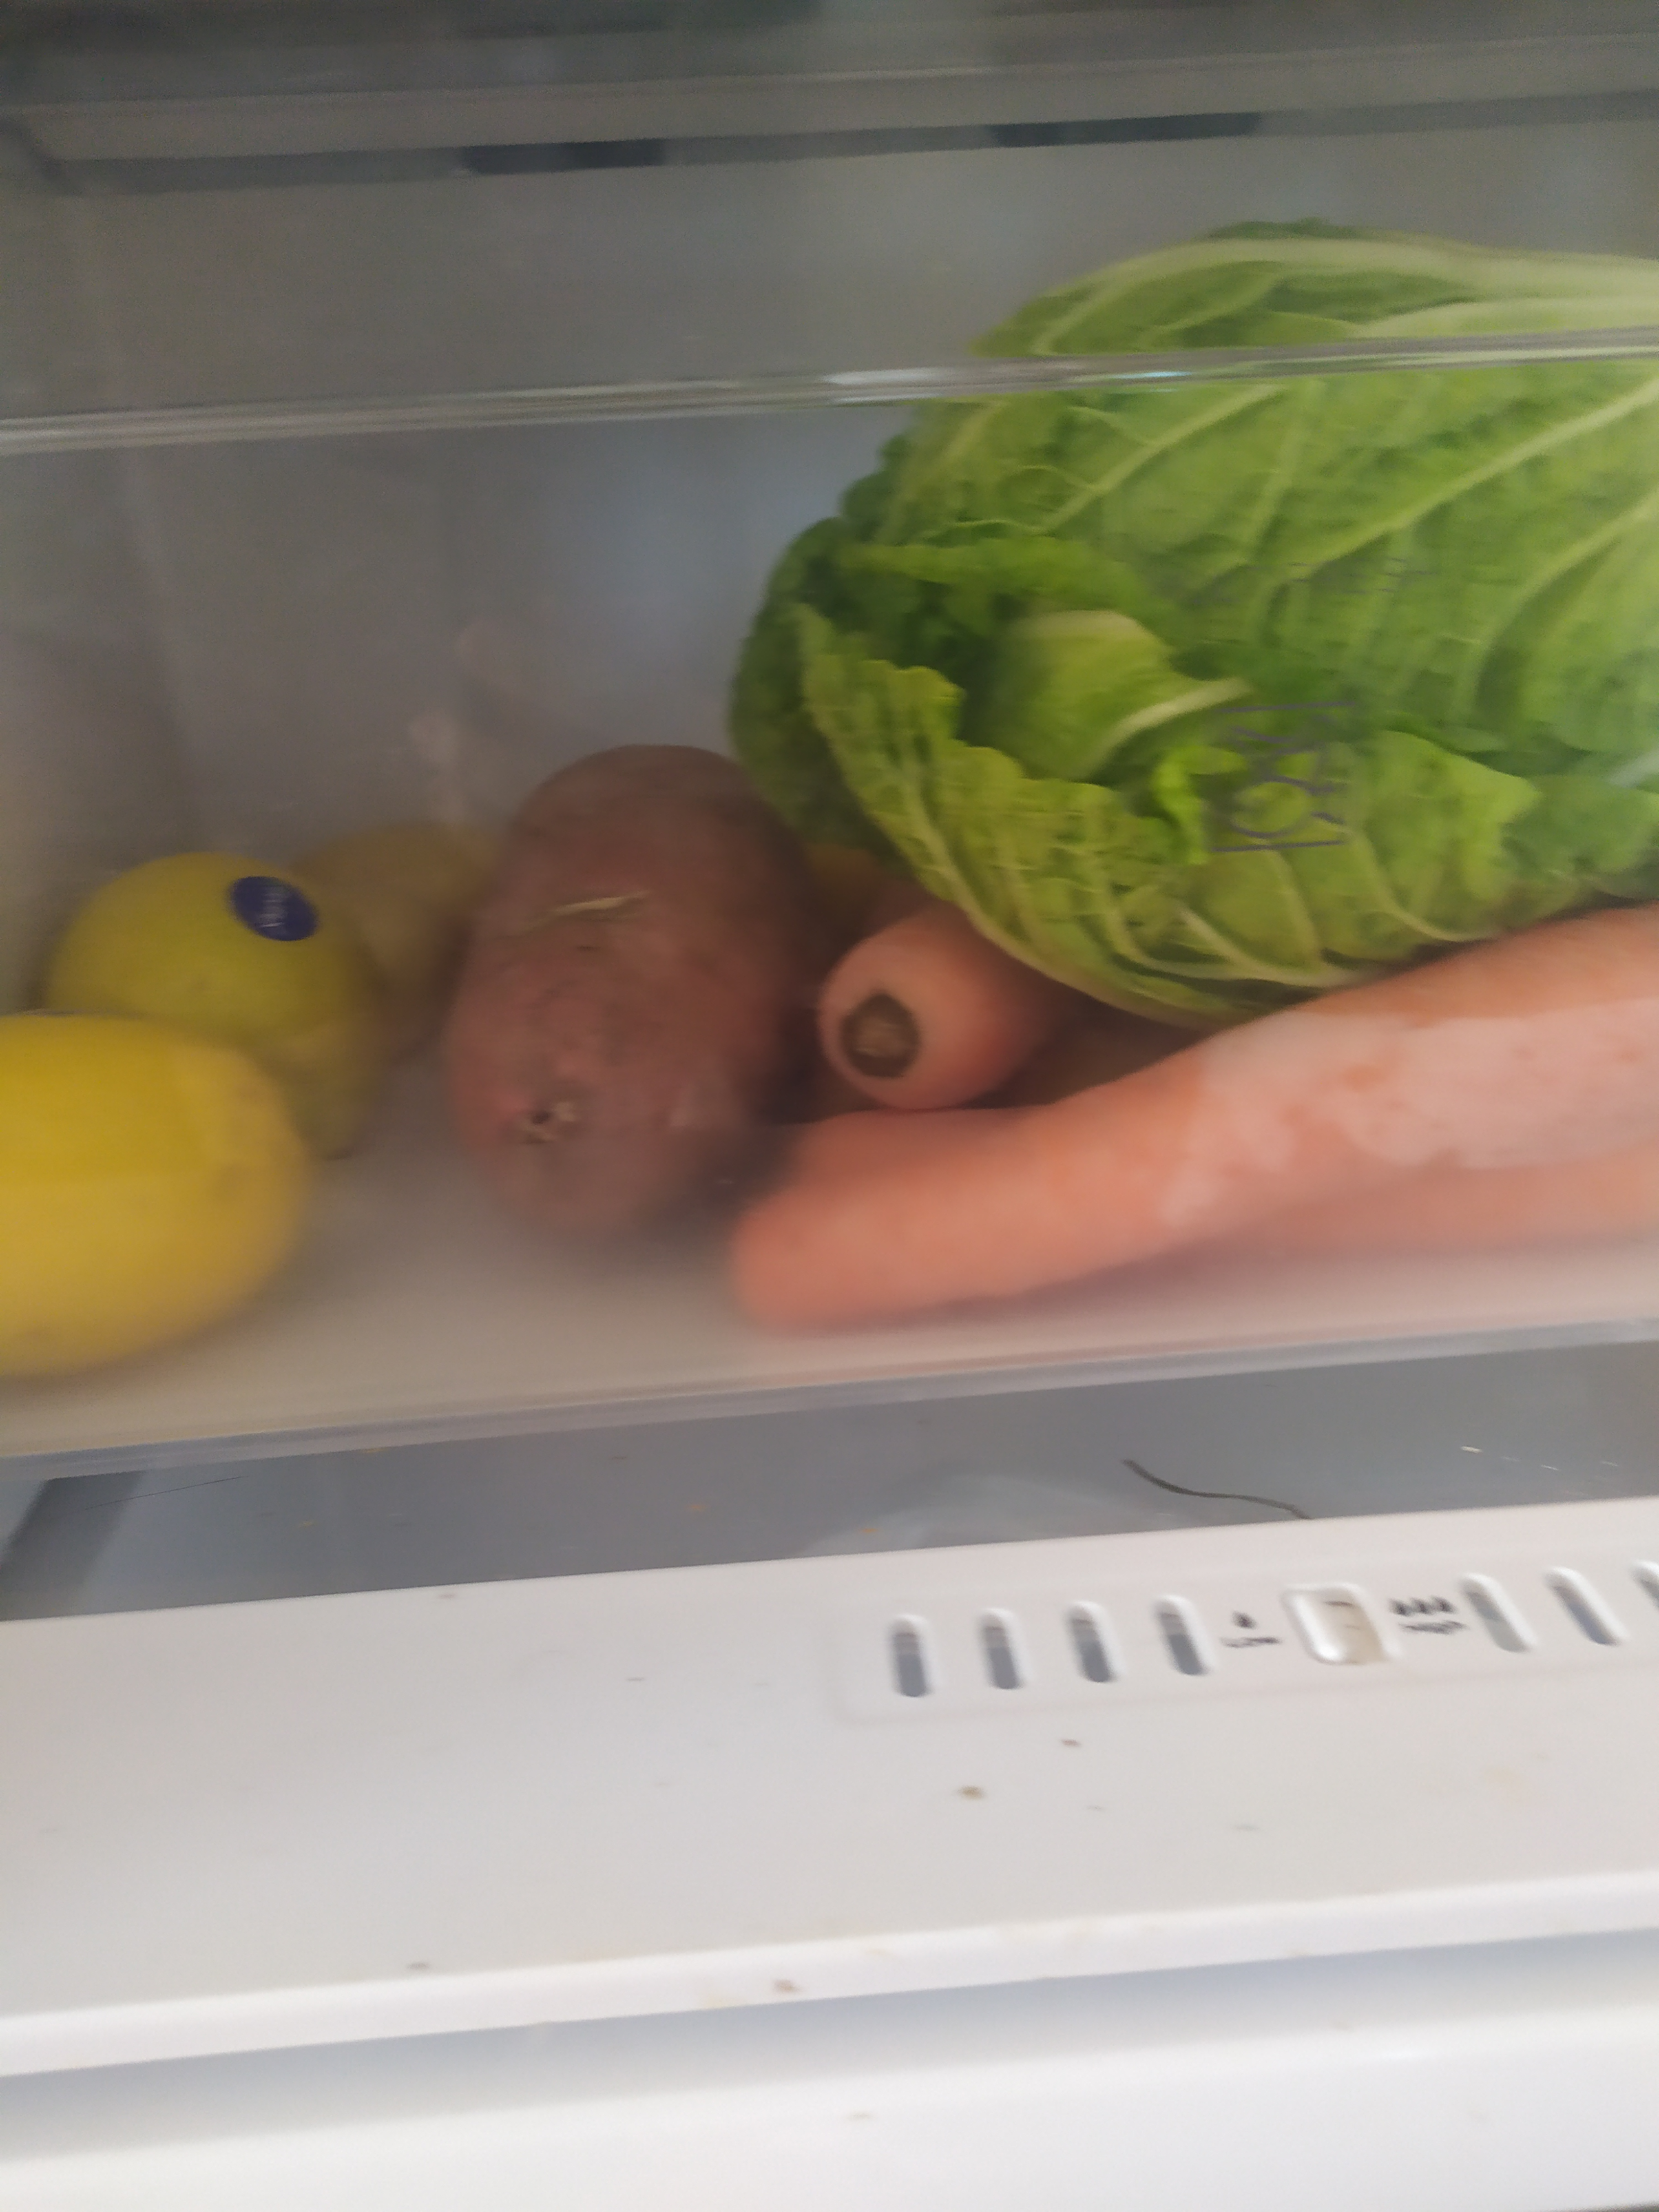carrot: (732, 911, 1659, 1322), (800, 1071, 1659, 1292), (821, 878, 1084, 1111)
lemon: (0, 988, 333, 1397), (42, 850, 396, 1151)
